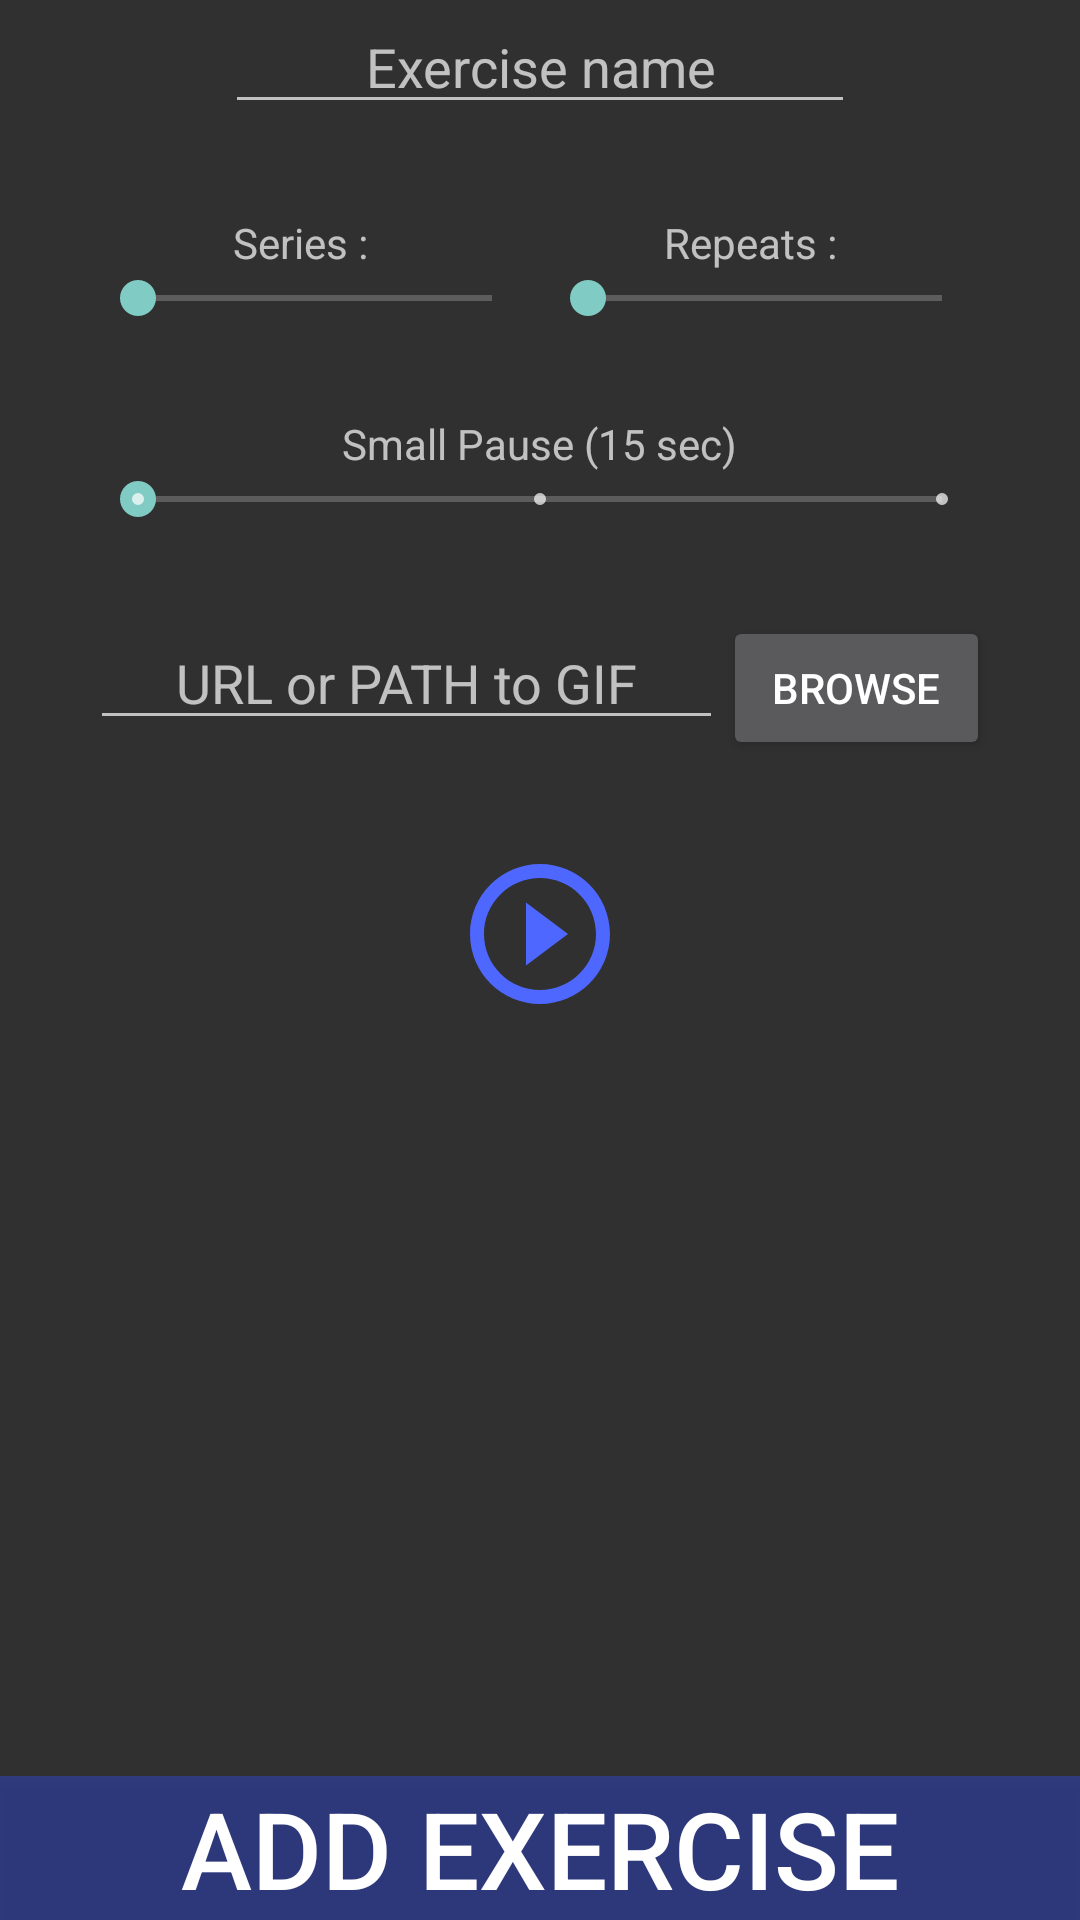

Icons on this 1080×1920 Android screen, each with its box as (x1, y1, x2, y2):
play: (470, 864, 610, 1004)
